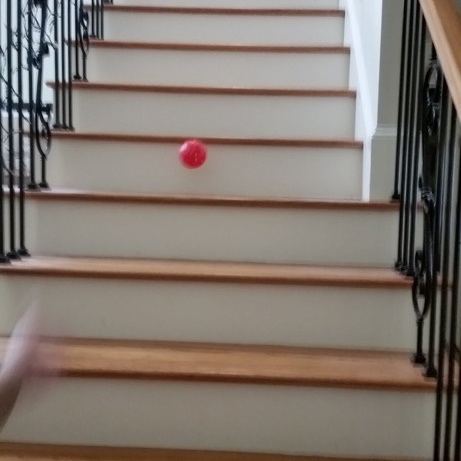ball: (175, 137, 210, 171)
